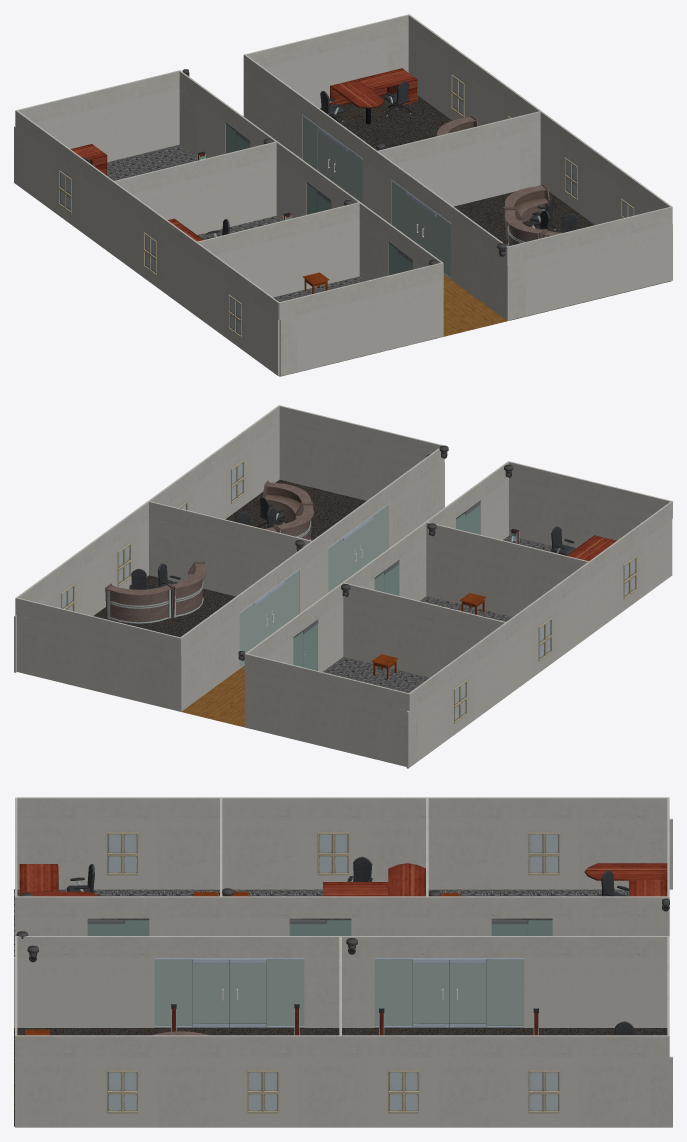
The model's file is edificio.glb.
3 views of the same model, one above another, from view 1: azimuth 30°, elevation 25°; view 2: azimuth 150°, elevation 25°; view 3: azimuth 270°, elevation 25° (orthographic). The views are drawn at different scales.
Visible parts, largest first — view 1: Object_21, Object_11, Object_9, Object_22, Object_8, Object_3, Object_7, Object_12, Object_4, Object_5, Object_13, Object_6; view 2: Object_21, Object_11, Object_22, Object_5, Object_9, Object_7, Object_12, Object_8, Object_4, Object_6, Object_10, Object_14 (+3 smaller); view 3: Object_21, Object_11, Object_22, Object_3, Object_8, Object_12, Object_9, Object_7, Object_15, Object_2.
Part boxes in pixels (<box>): Object_21: <box>14,14,672,376</box>; Object_11: <box>302,114,450,279</box>; Object_9: <box>115,110,638,360</box>; Object_22: <box>51,14,408,284</box>; Object_8: <box>148,94,671,348</box>; Object_3: <box>71,68,417,241</box>; Object_7: <box>107,171,507,368</box>; Object_12: <box>225,122,412,275</box>; Object_4: <box>436,116,561,236</box>; Object_5: <box>449,115,549,245</box>; Object_13: <box>91,88,578,239</box>; Object_6: <box>107,160,312,376</box>; Object_21: <box>14,405,672,768</box>; Object_11: <box>239,504,388,668</box>; Object_22: <box>16,548,551,740</box>; Object_5: <box>105,480,313,623</box>; Object_9: <box>126,487,512,678</box>; Object_7: <box>182,596,457,727</box>; Object_12: <box>293,500,480,670</box>; Object_8: <box>93,479,551,623</box>; Object_4: <box>106,482,313,595</box>; Object_6: <box>323,657,429,692</box>; Object_10: <box>355,551,558,687</box>; Object_14: <box>131,497,270,589</box>; Object_21: <box>14,797,672,1127</box>; Object_11: <box>154,958,524,1027</box>; Object_22: <box>304,819,669,1035</box>; Object_3: <box>19,863,667,896</box>; Object_8: <box>14,889,667,1126</box>; Object_12: <box>87,918,552,935</box>; Object_9: <box>14,928,615,1106</box>; Object_7: <box>14,889,628,928</box>; Object_15: <box>87,856,633,1035</box>; Object_2: <box>171,1004,538,1035</box>.
Bounding box in the file's own units: 97 × 17.45 × 113.
Materials: 34 (9 with a texture image).
